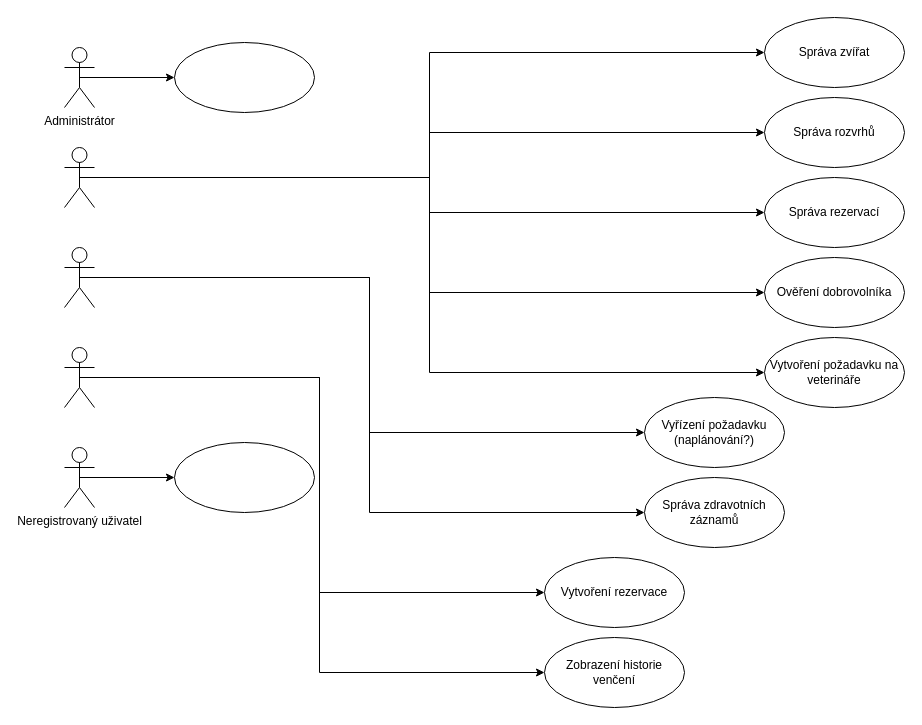
Some shapes in this 922 by 725 pixel diagram are drawn without their labels. Each missing label, with the centre of its shape:
"Dobrovolník" belongs at pixel 79 377.
"Pečovatel" belongs at pixel 79 177.
"Správa účtů" belongs at pixel 244 77.
"Veterinář" belongs at pixel 79 277.
"Zobrazit zvířata" belongs at pixel 244 477.
